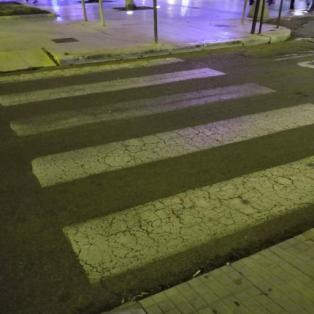Paso de Cebra: (0, 65, 285, 140)
